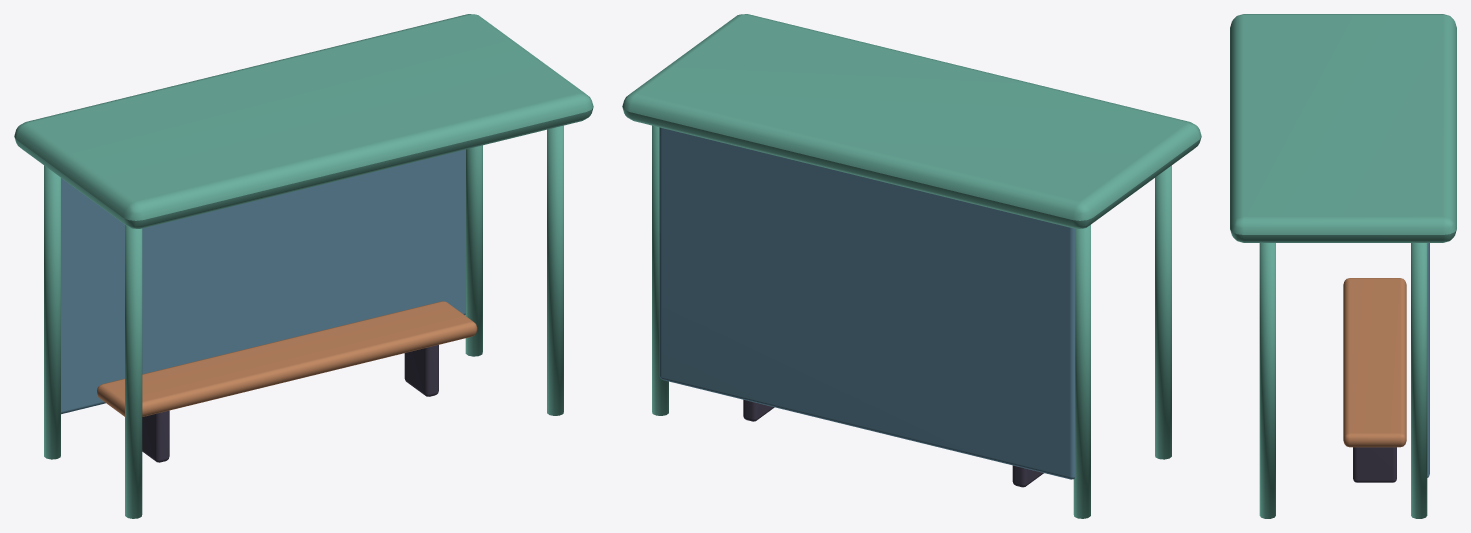
File: Bus_shelter.fbx
The picture shows the model from 3 angles, left to right: view 1: azimuth 30°, elevation 25°; view 2: azimuth 150°, elevation 25°; view 3: azimuth 270°, elevation 25°; orthographic projection. The views are drawn at different scales.
Visible parts, largest first — view 1: Town_Bus_shelter Shelter roof.001, Town_Bus_shelter Back panel.001, Town_Bus_shelter Waiting bench.001, Town_Bus_shelter Shelter post.004, Town_Bus_shelter Shelter post.006, Town_Bus_shelter Shelter post.005, Town_Bus_shelter Shelter post.007, Town_Bus_shelter Bench foot.003, Town_Bus_shelter Bench foot.002; view 2: Town_Bus_shelter Back panel.001, Town_Bus_shelter Shelter roof.001, Town_Bus_shelter Shelter post.004, Town_Bus_shelter Shelter post.005, Town_Bus_shelter Shelter post.007; view 3: Town_Bus_shelter Shelter roof.001, Town_Bus_shelter Waiting bench.001, Town_Bus_shelter Shelter post.006, Town_Bus_shelter Shelter post.007, Town_Bus_shelter Bench foot.003, Town_Bus_shelter Back panel.001.
Boxes of the visible parts, x1,y1,x2,y2 form: Town_Bus_shelter Shelter roof.001: (14, 14, 593, 228); Town_Bus_shelter Back panel.001: (61, 149, 465, 414); Town_Bus_shelter Waiting bench.001: (97, 301, 477, 416); Town_Bus_shelter Shelter post.004: (125, 225, 142, 518); Town_Bus_shelter Shelter post.006: (547, 125, 563, 415); Town_Bus_shelter Shelter post.005: (44, 165, 60, 459); Town_Bus_shelter Shelter post.007: (465, 145, 482, 356); Town_Bus_shelter Bench foot.003: (404, 345, 438, 396); Town_Bus_shelter Bench foot.002: (142, 410, 169, 462); Town_Bus_shelter Back panel.001: (659, 127, 1075, 479); Town_Bus_shelter Shelter roof.001: (622, 14, 1201, 228); Town_Bus_shelter Shelter post.004: (1155, 165, 1171, 459); Town_Bus_shelter Shelter post.005: (1073, 225, 1090, 518); Town_Bus_shelter Shelter post.007: (652, 125, 668, 415); Town_Bus_shelter Shelter roof.001: (1230, 14, 1456, 242); Town_Bus_shelter Waiting bench.001: (1343, 278, 1406, 447); Town_Bus_shelter Shelter post.006: (1259, 243, 1275, 518); Town_Bus_shelter Shelter post.007: (1411, 243, 1427, 518); Town_Bus_shelter Bench foot.003: (1353, 447, 1396, 482); Town_Bus_shelter Back panel.001: (1427, 243, 1429, 477).
Bounding box in the file's own units: 400 × 266 × 180.
